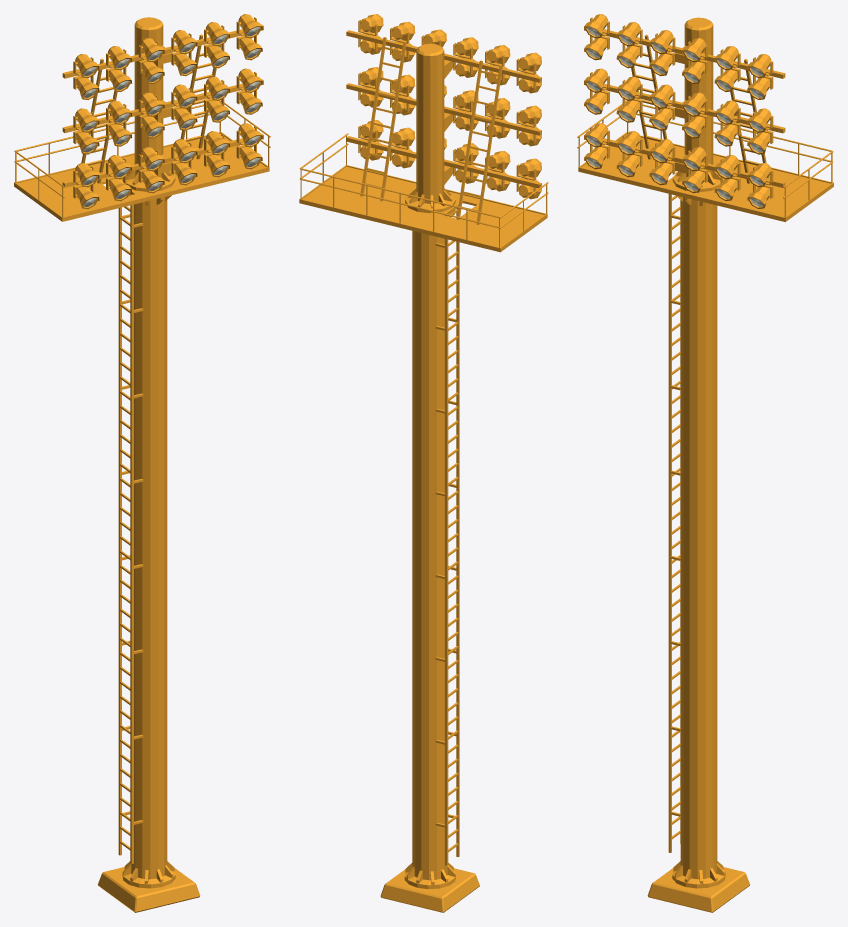
Rendered from SM_Reflector_Racetrack_20m.fbx.
3 views of the same model, side by side, from view 1: azimuth 30°, elevation 25°; view 2: azimuth 150°, elevation 25°; view 3: azimuth 330°, elevation 25° (orthographic). The views are drawn at different scales.
Visible parts, largest first — view 1: SM_Reflector_Racetrack_20m; view 2: SM_Reflector_Racetrack_20m; view 3: SM_Reflector_Racetrack_20m.
Boxes of the visible parts, x1=… form: SM_Reflector_Racetrack_20m: x1=14, y1=14, x2=270, y2=912; SM_Reflector_Racetrack_20m: x1=299, y1=14, x2=548, y2=912; SM_Reflector_Racetrack_20m: x1=577, y1=14, x2=833, y2=912.
Bounding box in the file's own units: 5 × 20 × 2.43.
